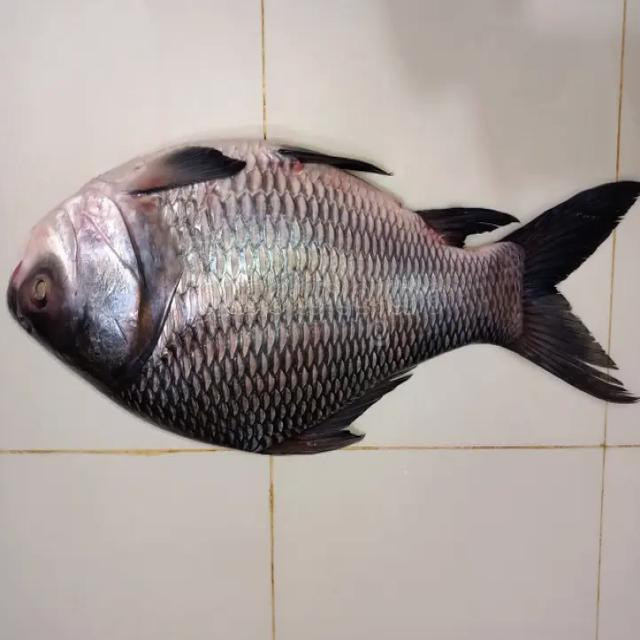Catla: (8, 139, 640, 455)
